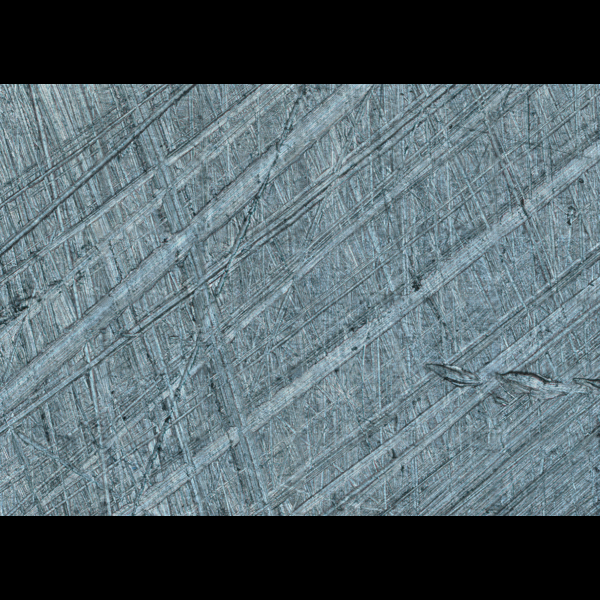d: (418, 352, 599, 413)
